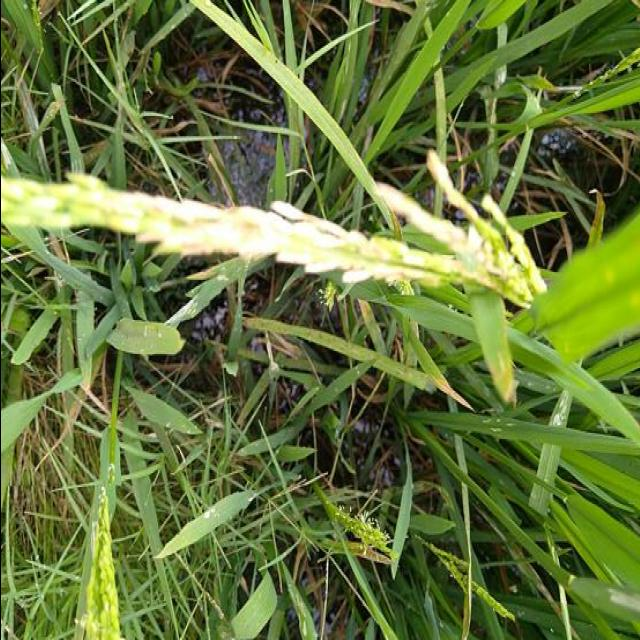Leaf Blight: (471, 292, 521, 407), (432, 374, 475, 413)
